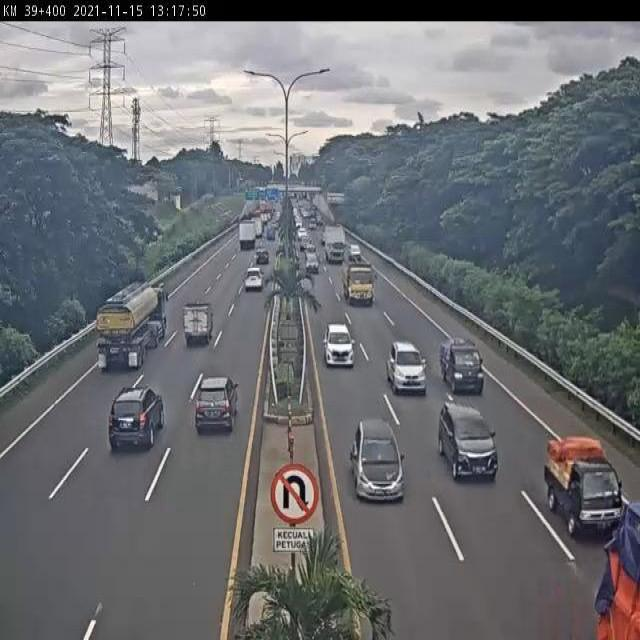car: (546, 433, 626, 543), (440, 337, 485, 396), (195, 377, 240, 431), (183, 299, 216, 345), (325, 324, 354, 367)
truck-m-: (344, 263, 378, 308)
truck-xl-: (97, 284, 171, 375)
